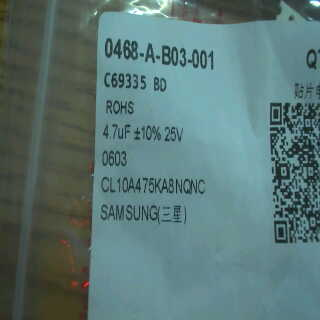4.7uF: (98, 120, 132, 145)
